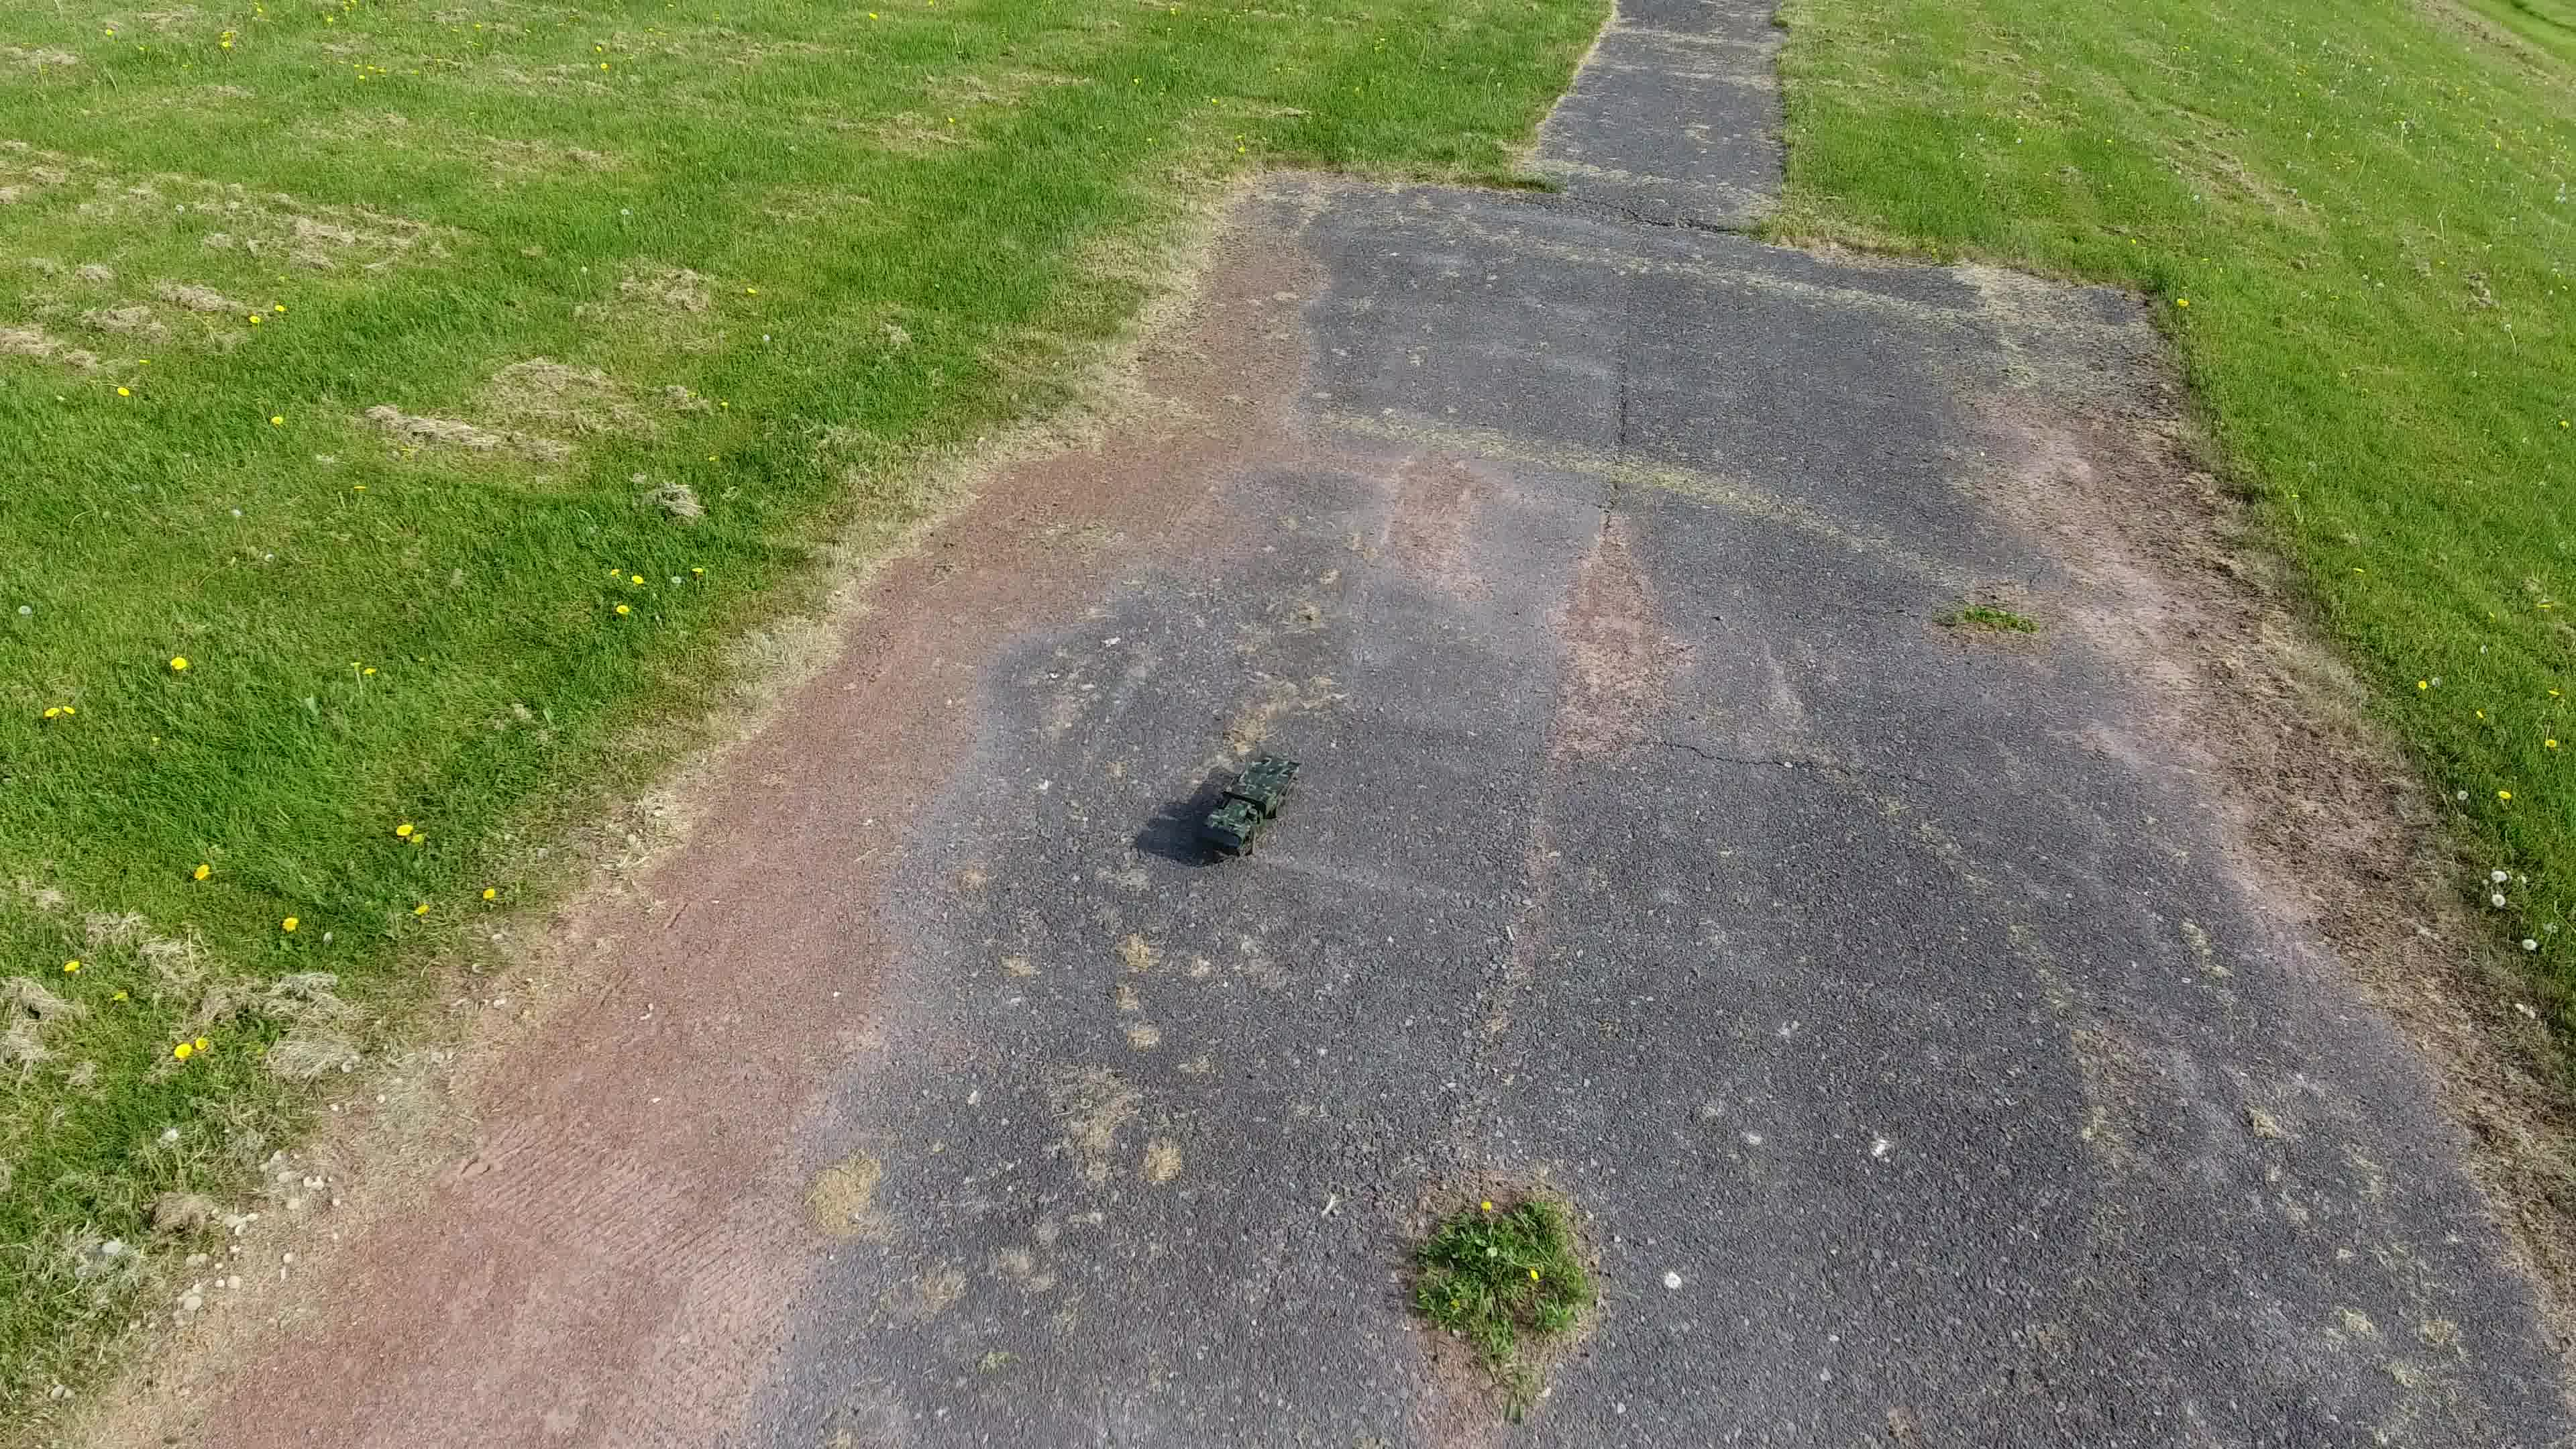transporter9_camo: (1194, 752, 1304, 862)
